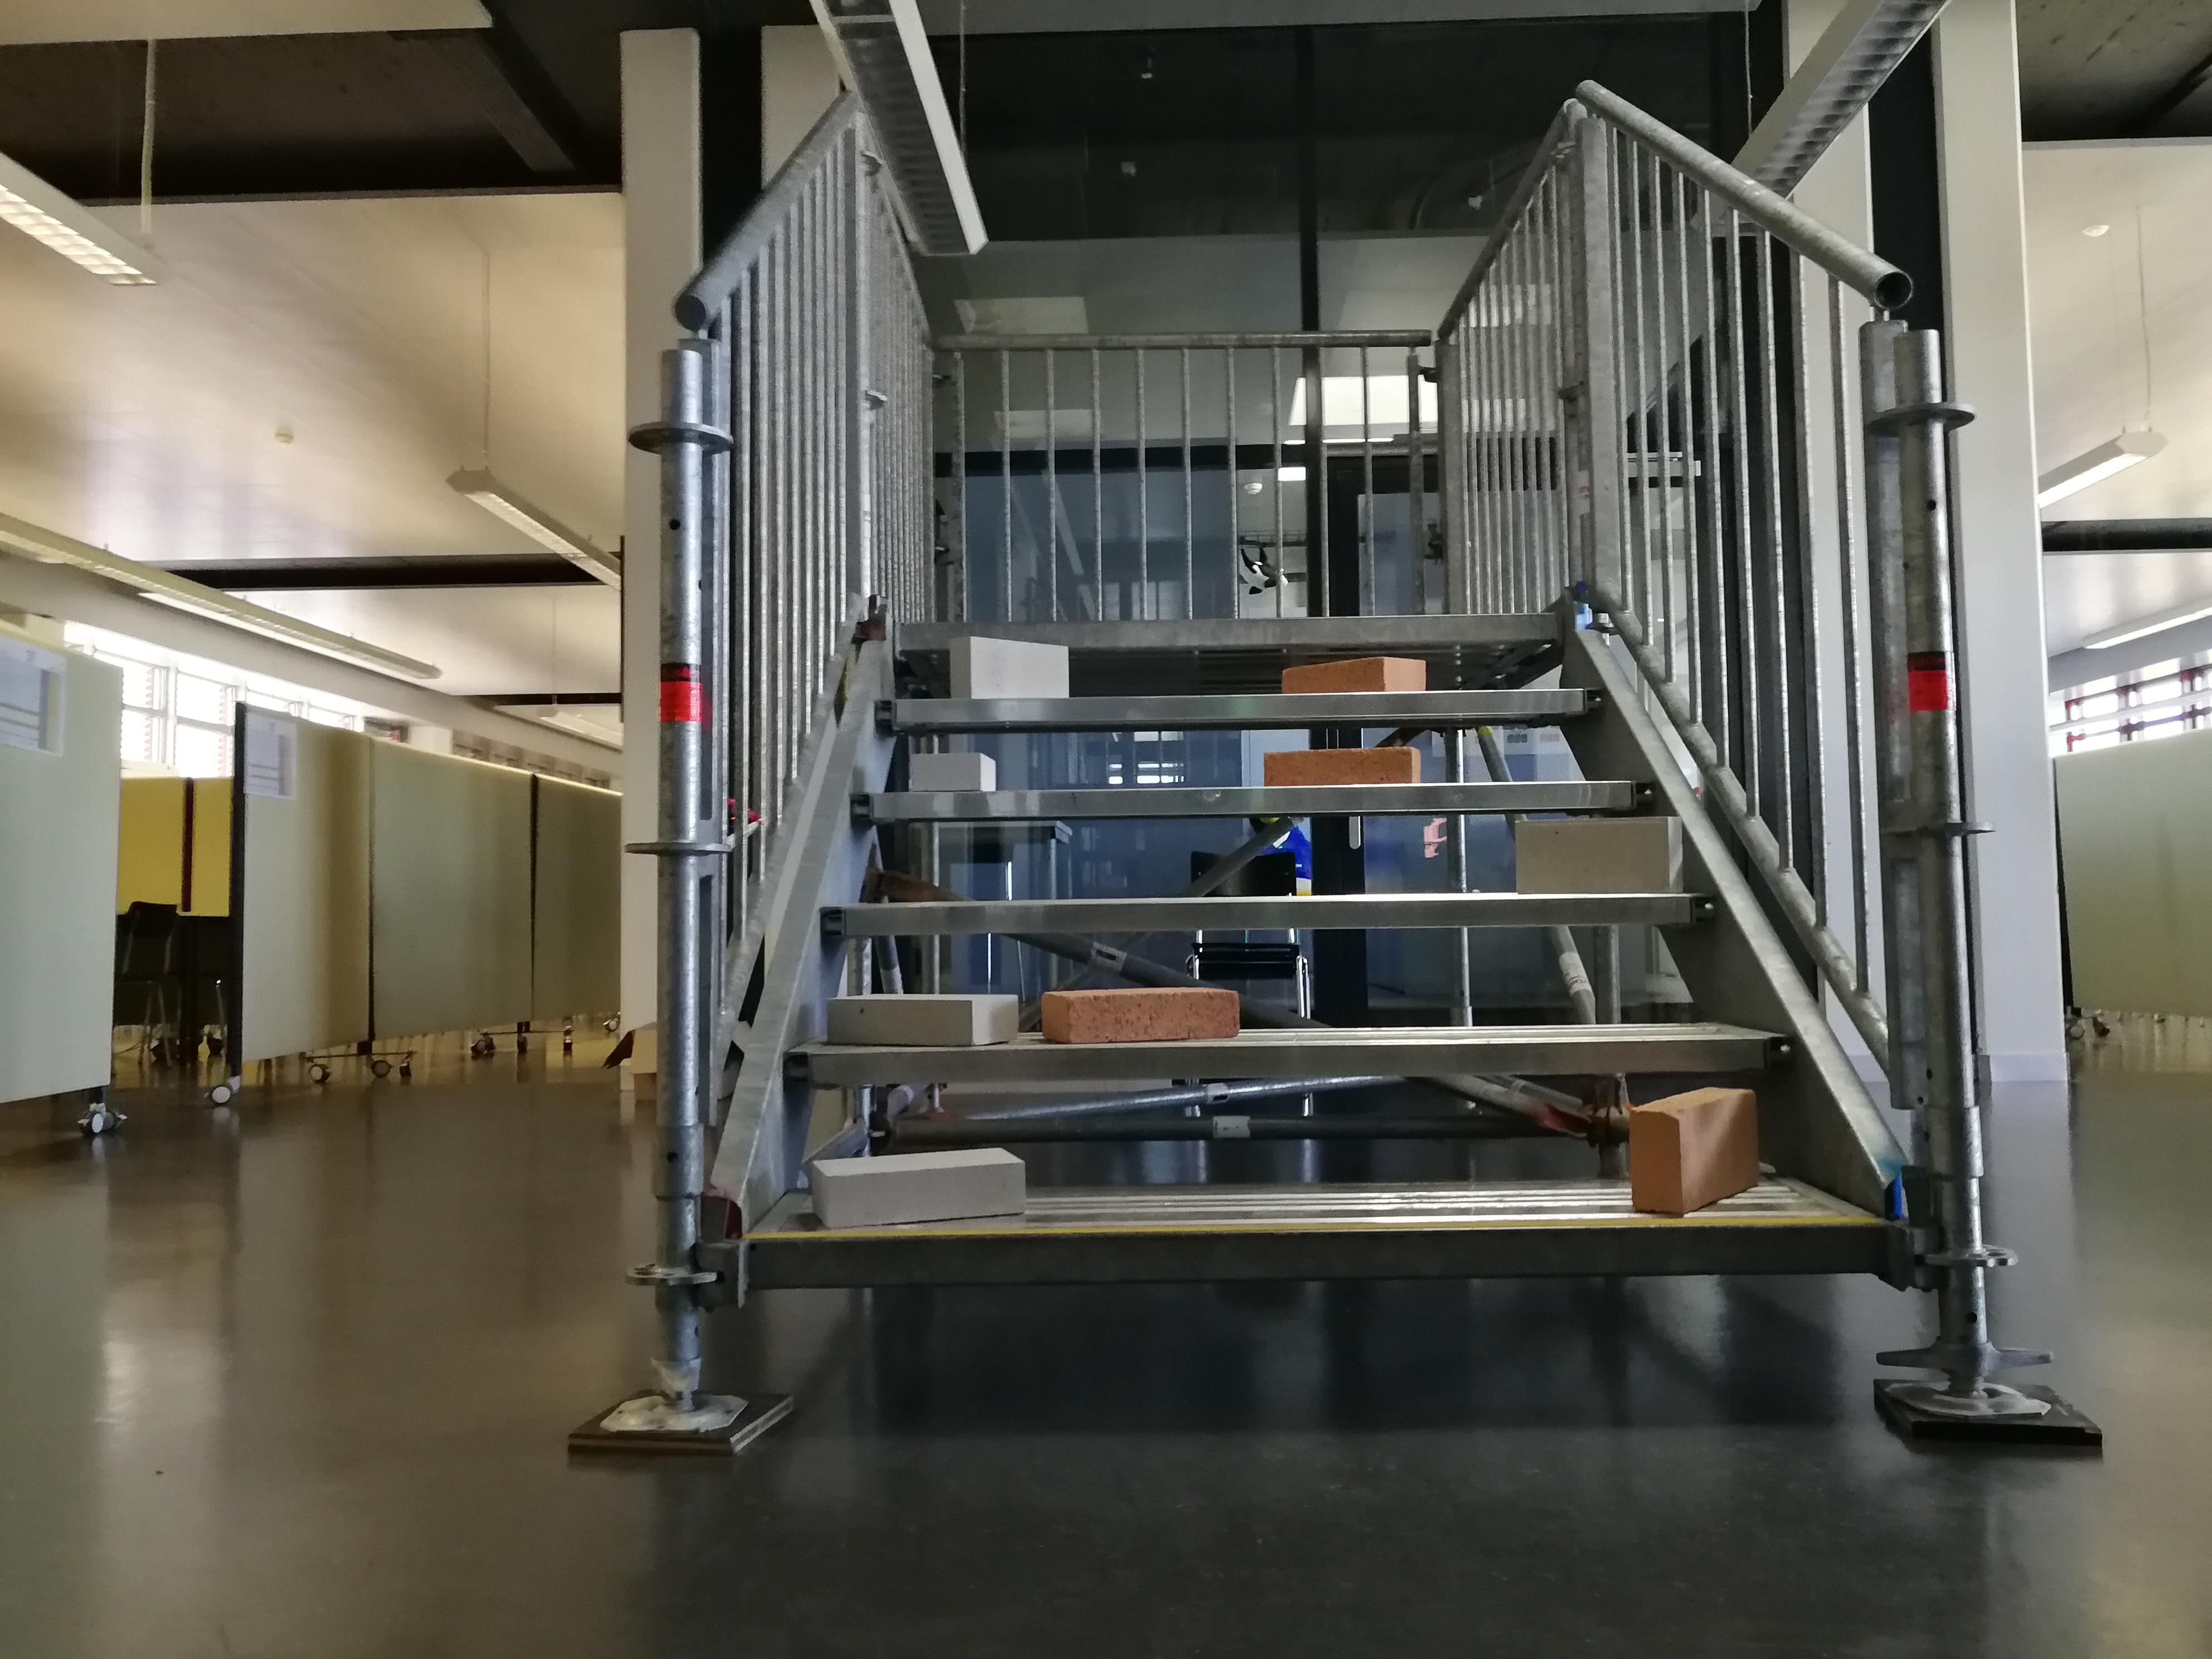brick: (1629, 1086, 1757, 1216), (813, 1148, 1019, 1229), (1514, 819, 1681, 889), (1038, 988, 1240, 1042), (827, 993, 1014, 1044), (949, 636, 1068, 695), (1264, 748, 1418, 782), (1280, 657, 1425, 694)
edge: (747, 1218, 1892, 1281), (786, 1032, 1806, 1082), (819, 890, 1721, 934), (845, 779, 1662, 817), (880, 687, 1602, 723), (899, 613, 1564, 643)
stairs: (559, 82, 2101, 1457)
steps: (737, 592, 1911, 1298)
